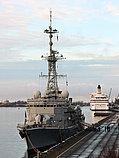MIL_Ship: (14, 16, 85, 151)
